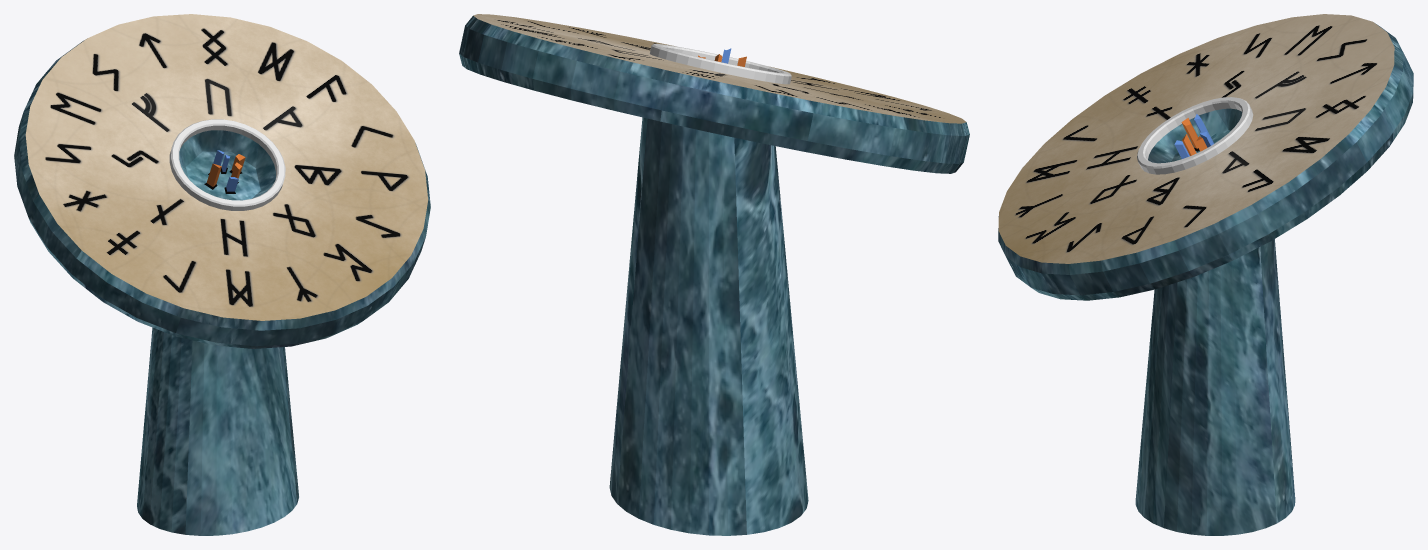
Rendered from dhd2.dae.
3 views of the same model, side by side, from view 1: azimuth 30°, elevation 25°; view 2: azimuth 150°, elevation 25°; view 3: azimuth 270°, elevation 25° (orthographic). The views are drawn at different scales.
Parts seen in each view (by area): view 1: Cylinder, Cylinder.001; view 2: Cylinder, Cylinder.001; view 3: Cylinder, Cylinder.001.
Part boxes in pixels (x1,y1,x2,y2): Cylinder: [14, 14, 430, 535]; Cylinder.001: [169, 119, 285, 210]; Cylinder: [459, 14, 969, 535]; Cylinder.001: [649, 44, 791, 84]; Cylinder: [998, 14, 1413, 535]; Cylinder.001: [1137, 97, 1253, 174].
Bounding box in the file's own units: 1 × 0.9298 × 1.11.
Materials: 5 (2 with a texture image).
